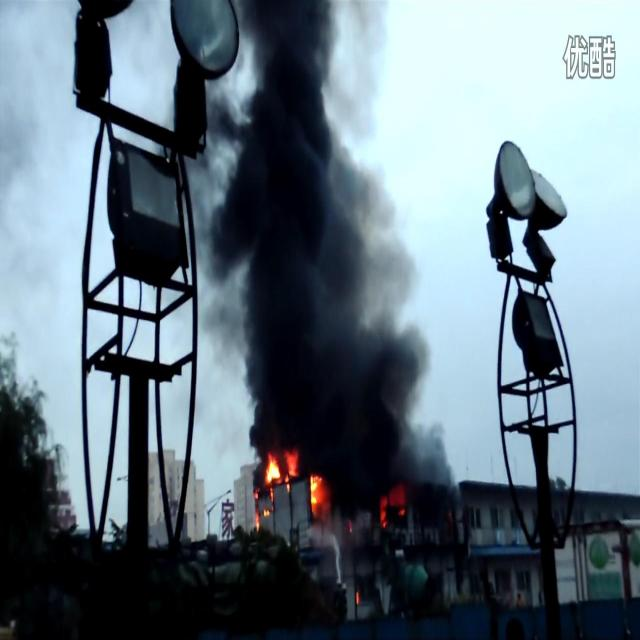fire: (253, 450, 304, 524), (308, 471, 322, 510)
smoke: (210, 13, 418, 447)
